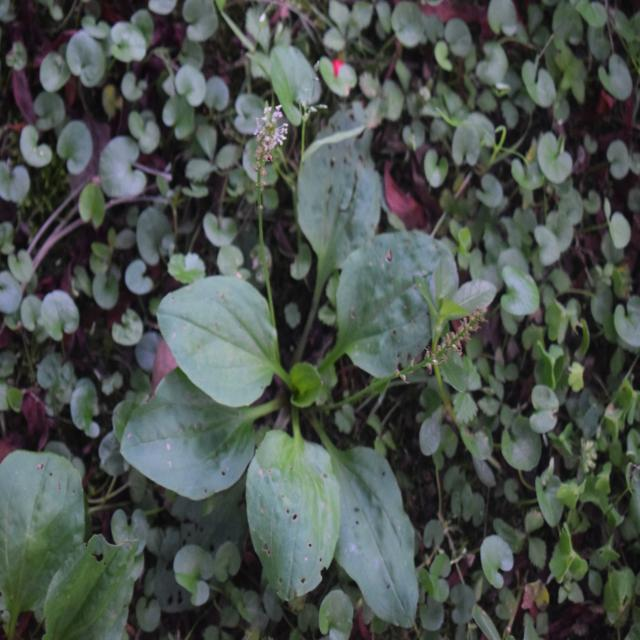plantain: (125, 128, 491, 602)
